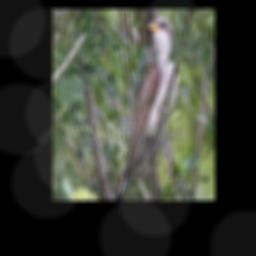Cuckoo: (117, 15, 177, 199)
